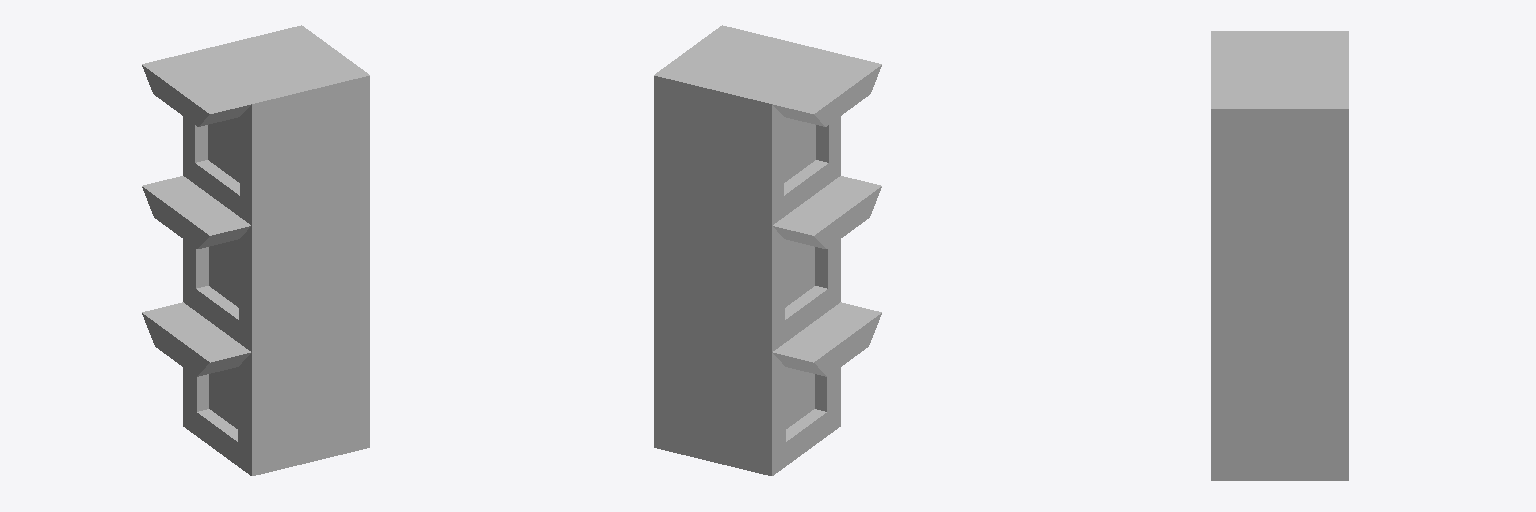
Rendered from trafficlight.obj.
3 views of the same model, side by side, from view 1: azimuth 30°, elevation 25°; view 2: azimuth 150°, elevation 25°; view 3: azimuth 270°, elevation 25° (orthographic).
Visible parts, largest first — view 1: TrafficLight; view 2: TrafficLight; view 3: TrafficLight.
Part boxes in pixels (bbox=[...]): TrafficLight: bbox=[142, 25, 369, 475]; TrafficLight: bbox=[654, 25, 881, 475]; TrafficLight: bbox=[1211, 31, 1348, 480].
Bounding box in the file's own units: 0.6776 × 1.5 × 0.5013.